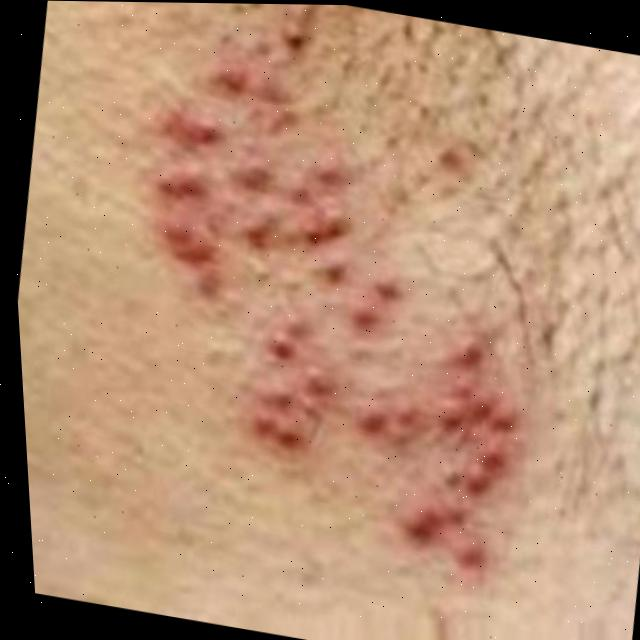Shingles: (88, 49, 576, 579)
